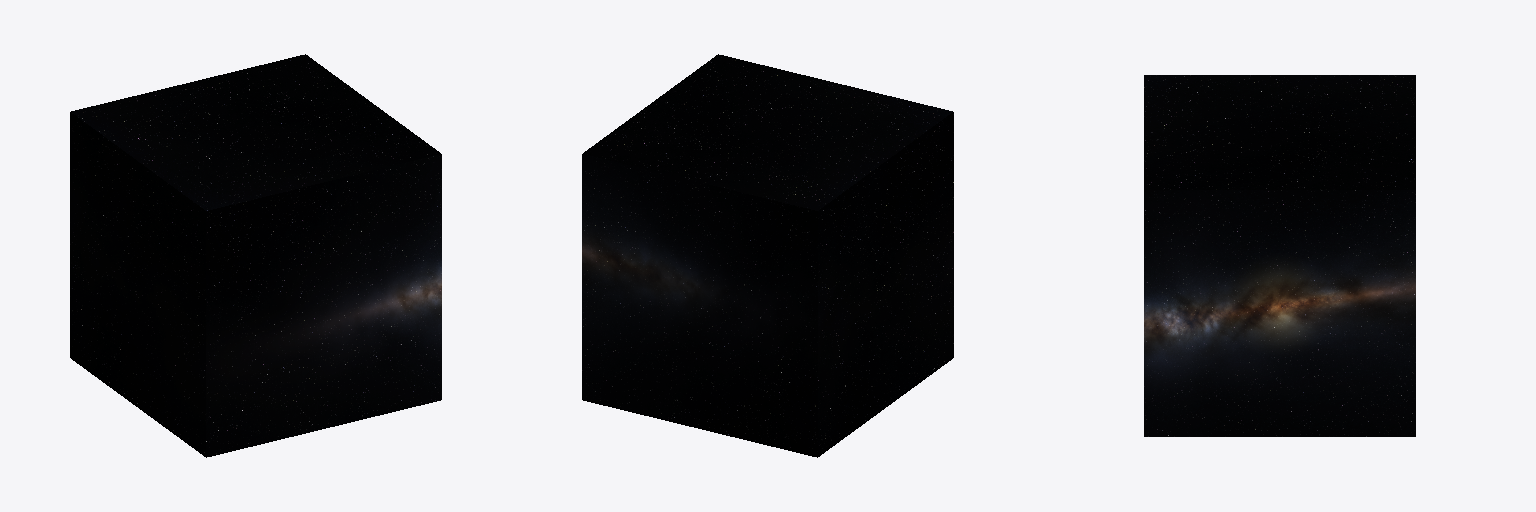
The picture shows the model from 3 angles: view 1: azimuth 30°, elevation 25°; view 2: azimuth 150°, elevation 25°; view 3: azimuth 270°, elevation 25°; orthographic projection.
Bounding box in the file's own units: 1000 × 1001 × 1000.
Materials: 6 (6 with a texture image).